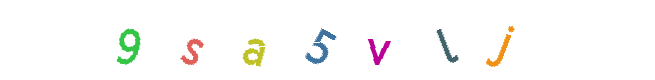5: (288, 0, 368, 80)
9: (89, 0, 169, 80)
A: (263, 0, 343, 80)
J: (338, 0, 418, 80)
L: (326, 0, 406, 80)
S: (153, 0, 233, 80)
V: (325, 0, 405, 80)
